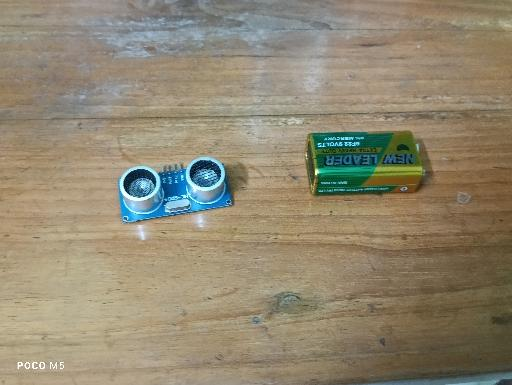Battery: (304, 130, 426, 197)
sensor: (118, 156, 234, 224)
